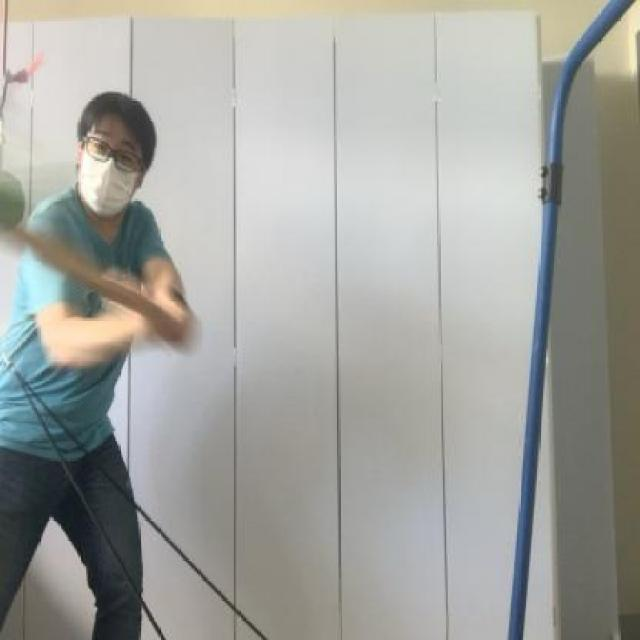baseball: (0, 155, 32, 239)
